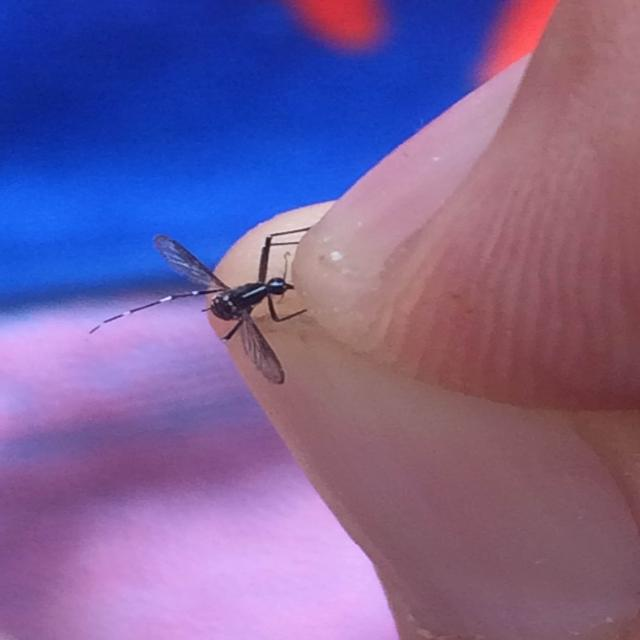albopictus: (88, 213, 329, 381)
